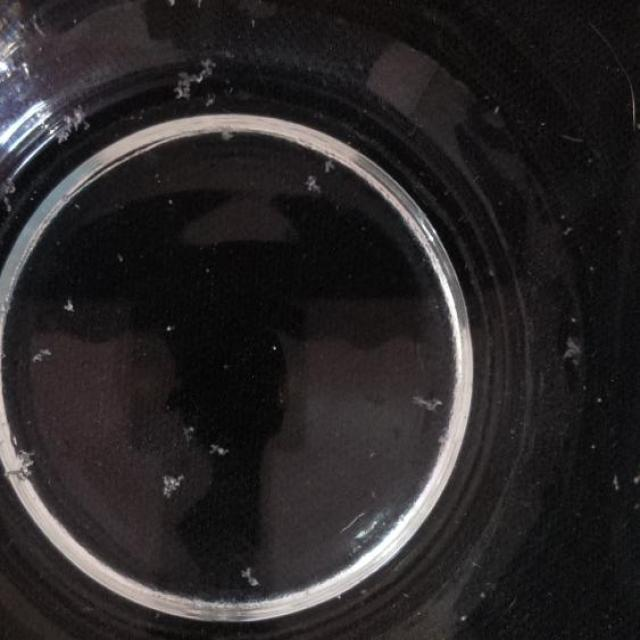fiber: (174, 55, 220, 106), (52, 107, 88, 144), (3, 448, 36, 488), (164, 467, 184, 501), (564, 335, 583, 366), (202, 440, 230, 461), (214, 128, 246, 146), (238, 568, 264, 590), (319, 154, 340, 180), (304, 173, 320, 204), (418, 398, 444, 414), (32, 346, 54, 364), (58, 294, 74, 315), (614, 472, 627, 495), (191, 0, 213, 13), (634, 448, 639, 492), (133, 0, 152, 7), (163, 0, 180, 7)
